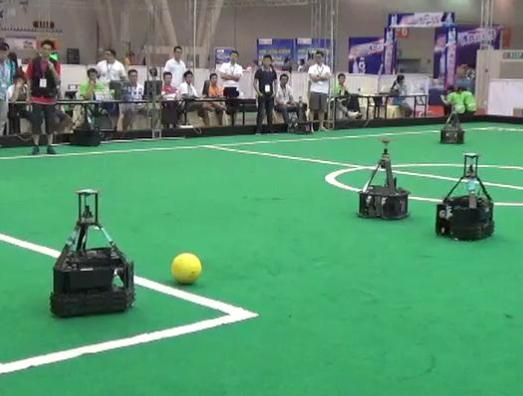robot: (47, 183, 139, 318), (431, 150, 497, 241), (356, 139, 411, 220)
